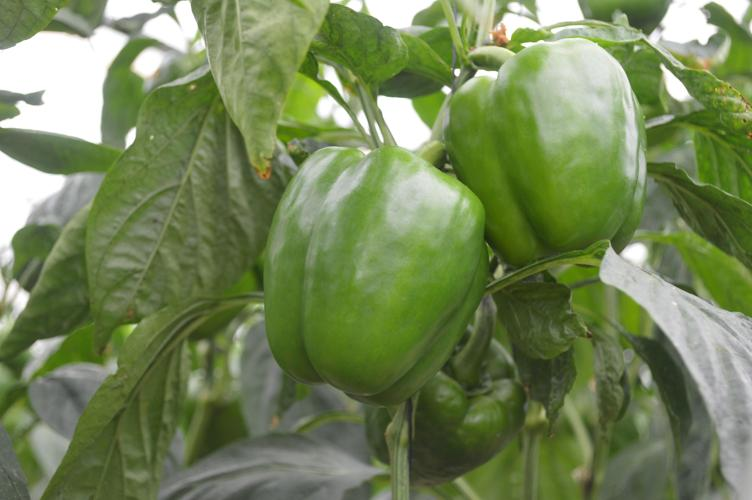BellPepper: (260, 148, 485, 398), (451, 38, 645, 265), (360, 333, 523, 476)
